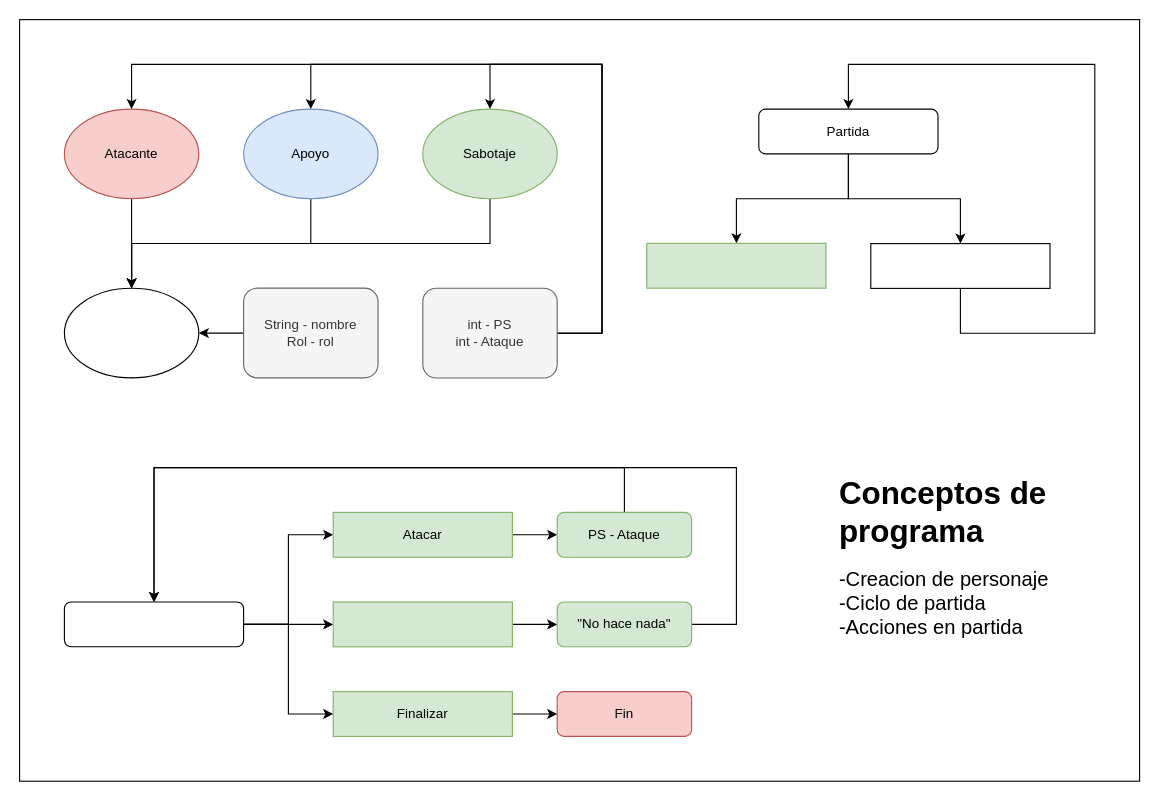
The diagram is 1159 pixels wide and 801 high, and some of its shapes have lost their labels. The centre of each missing label's shape, as x and y in pixels:
Acciones: (153,624)
Activada: (736,265)
Desactivada: (960,265)
Personaje: (131,332)
Reserva: (422,624)
